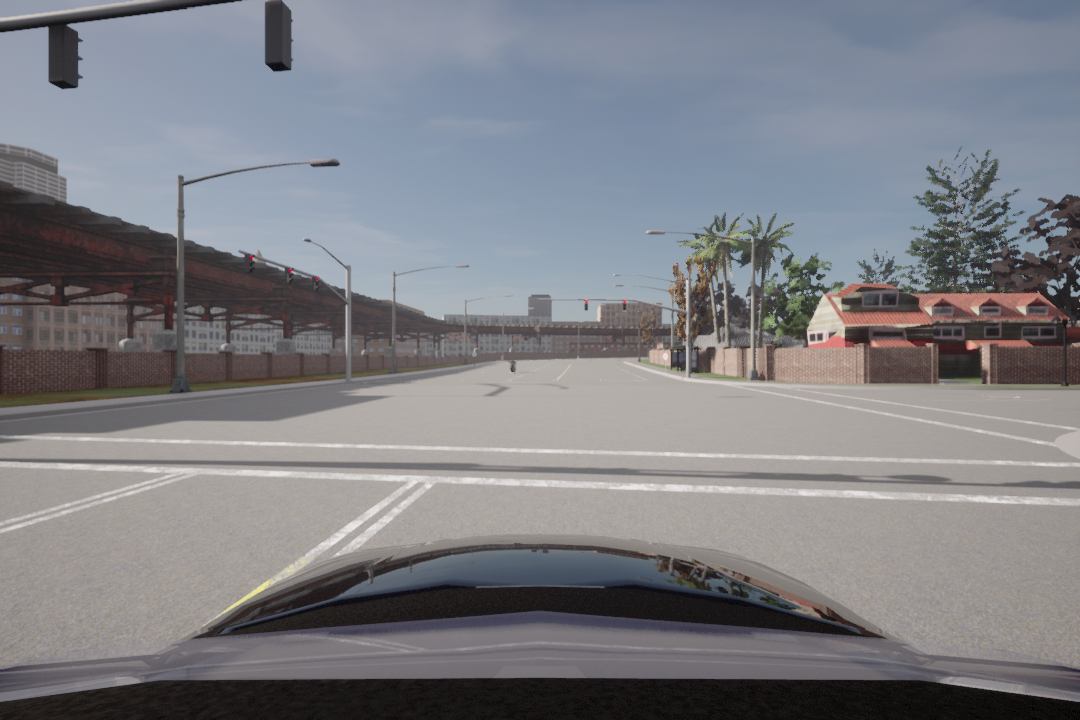TrafficLight: (240, 249, 257, 275), (308, 275, 321, 294), (283, 266, 293, 284), (621, 298, 630, 315), (582, 299, 589, 310)
